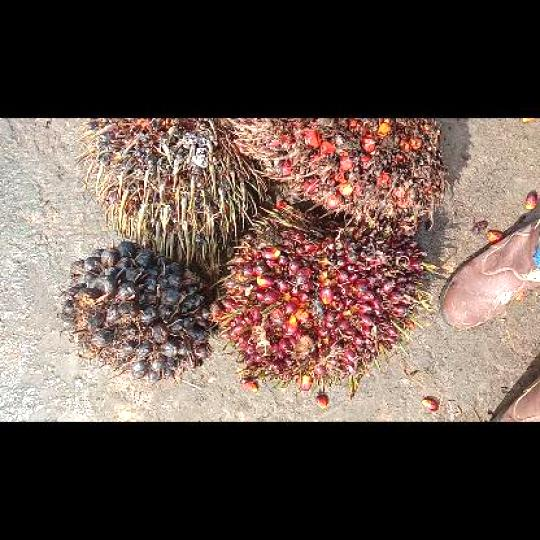masak: (214, 205, 436, 390)
terlalu masak: (231, 117, 449, 236)
